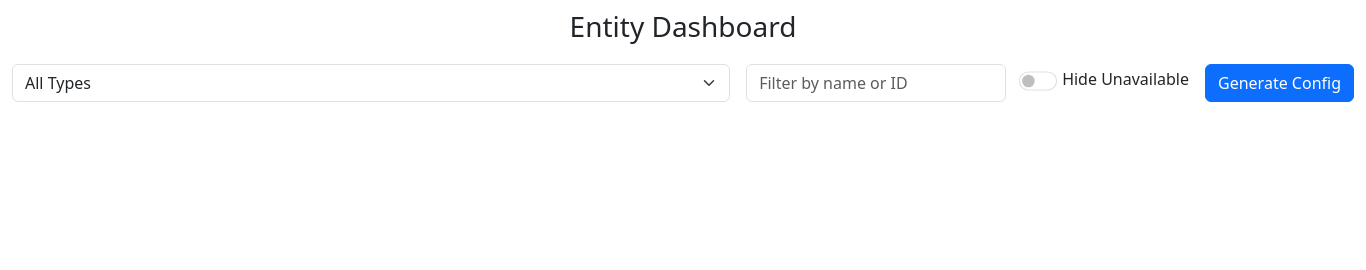
RawEntityView.vue › Areas Display › displays copy button for areas
Step 1. Select "area" in the dropdown → (371, 83), box left=12, top=64, right=730, bottom=102
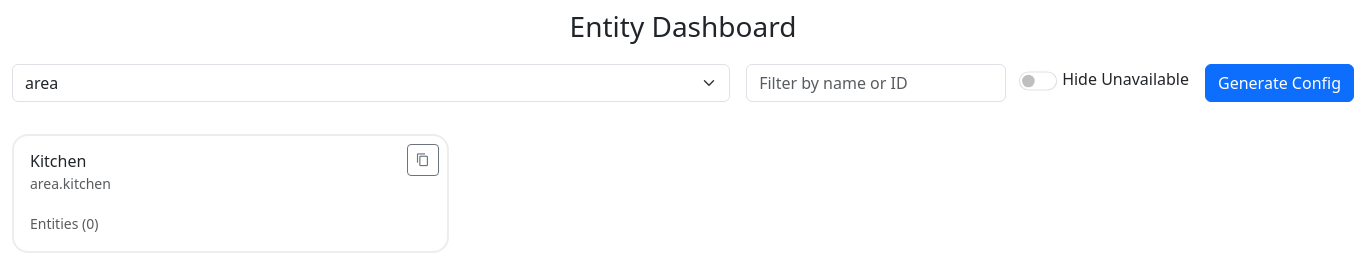
Result: the button named "Copy area JSON to clipboard" is shown at left=407, top=144, right=439, bottom=176
